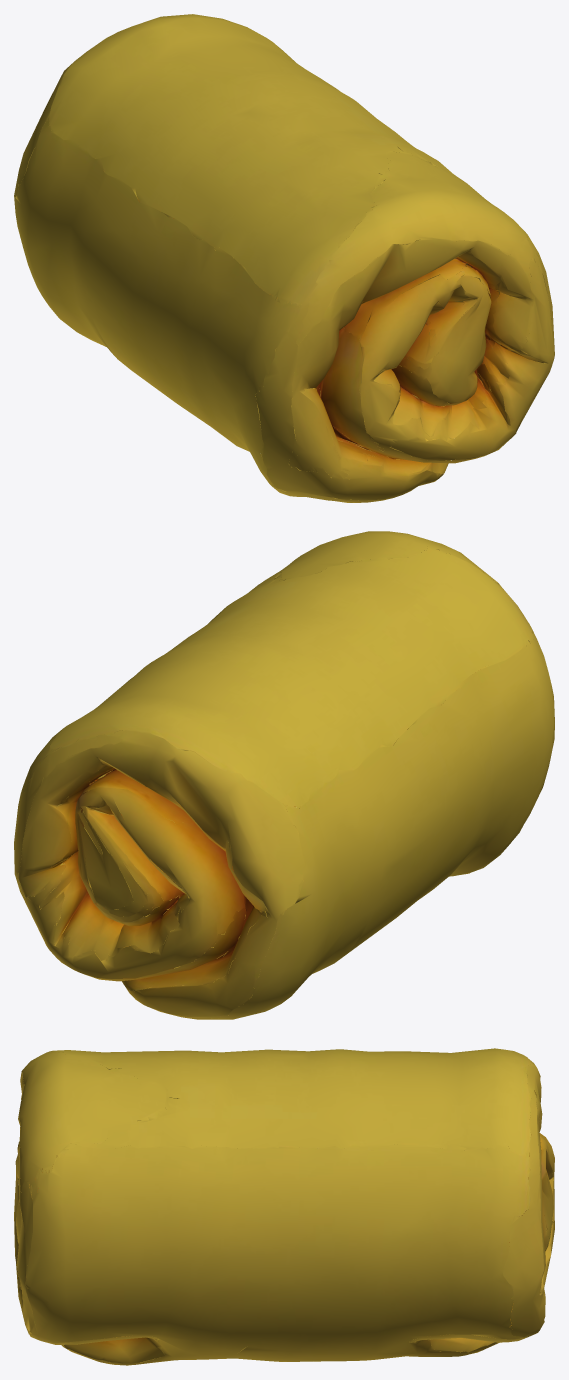
The model's file is blanket-yellow.glb.
3 renders of one model, top to bottom at view 1: azimuth 30°, elevation 25°; view 2: azimuth 150°, elevation 25°; view 3: azimuth 270°, elevation 25°, orthographic. The views are drawn at different scales.
Visible parts, largest first — view 1: material; view 2: material; view 3: material.
Boxes of the visible parts, box(x1,y1,x2,y2) form: material: box(14, 14, 554, 502); material: box(14, 531, 554, 1019); material: box(14, 1048, 554, 1365).
Bounding box in the file's own units: 0.6423 × 0.6207 × 1.09.
1 material, 1 textured.
